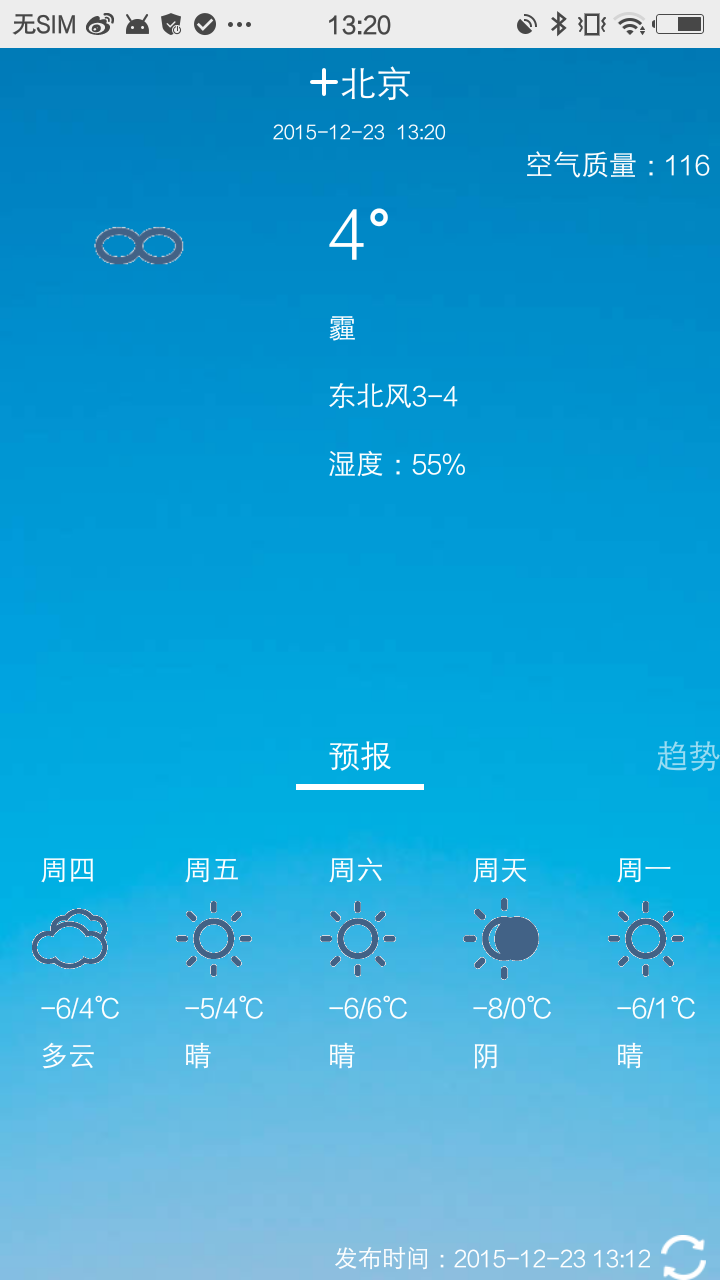textview: (29, 823, 720, 904)
